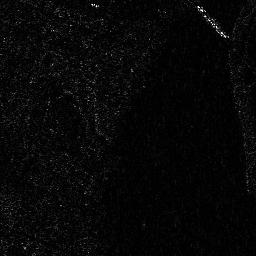ship: (196, 2, 228, 38)
